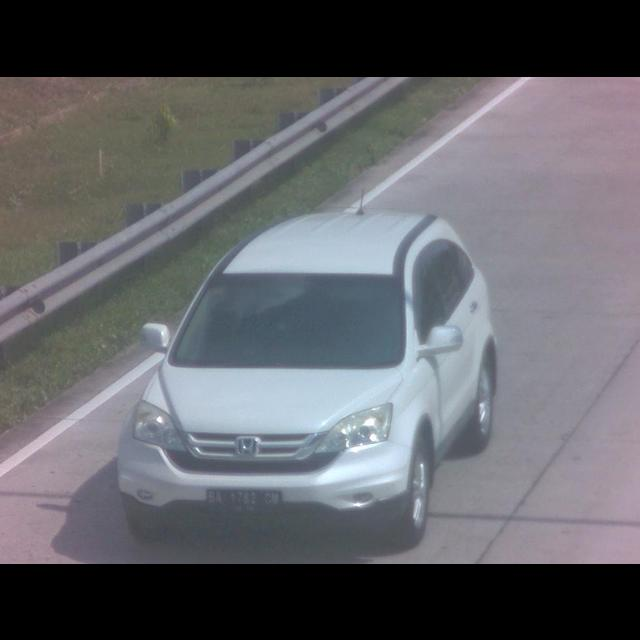plate: (204, 485, 286, 515)
